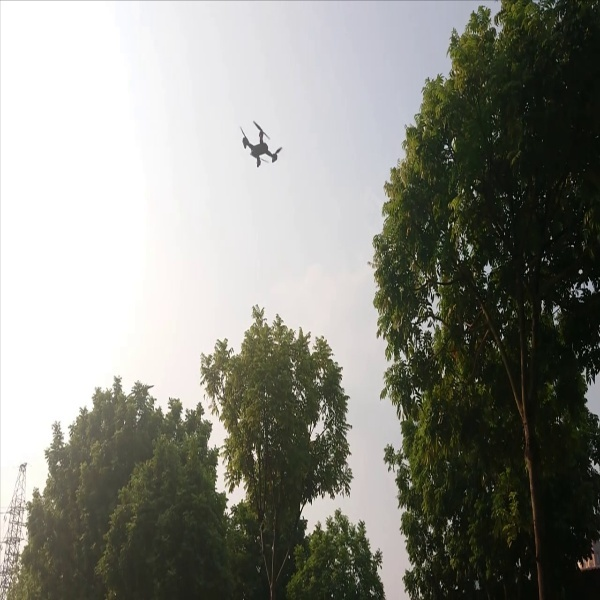drone: (233, 115, 286, 172)
